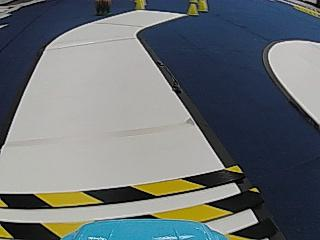bump: (0, 167, 275, 236)
